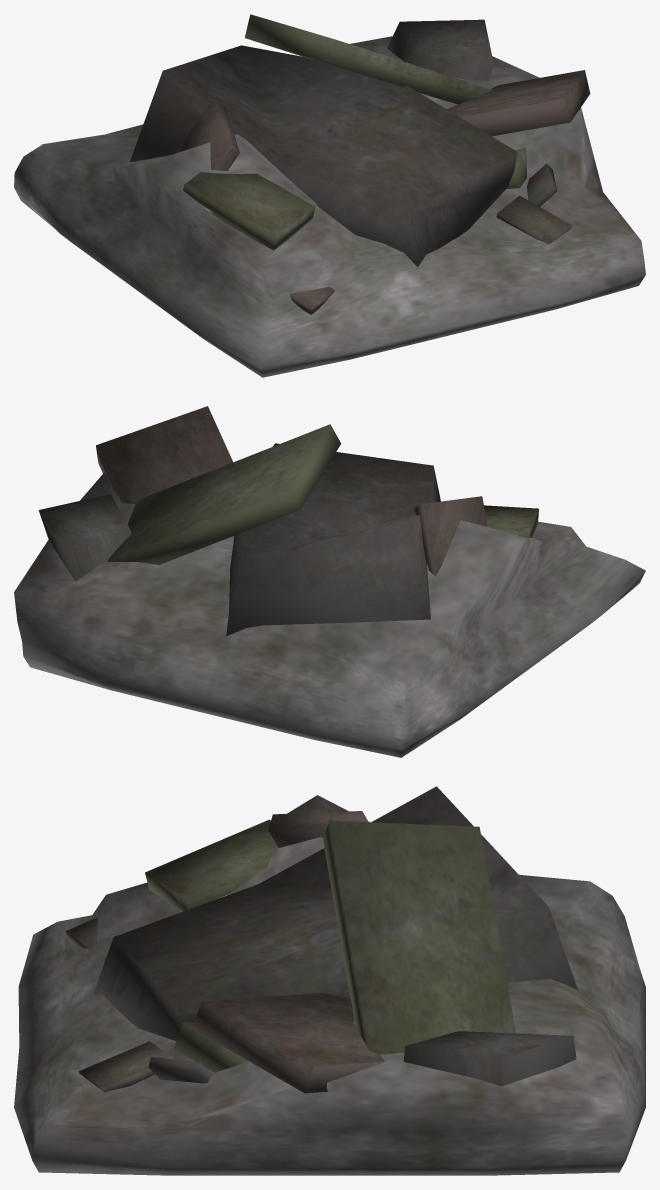
File: detritos2.glb
3 views of the same model, one above another, from view 1: azimuth 30°, elevation 25°; view 2: azimuth 150°, elevation 25°; view 3: azimuth 270°, elevation 25° (orthographic). The views are drawn at different scales.
Parts seen in each view (by area): view 1: Cube.016; view 2: Cube.016; view 3: Cube.016.
Boxes of the visible parts, <box> form: Cube.016: <box>14,14,645,377</box>; Cube.016: <box>14,406,645,757</box>; Cube.016: <box>14,786,645,1175</box>.
Bounding box in the file's own units: 2 × 0.8624 × 2.
Materials: 1 (1 with a texture image).
